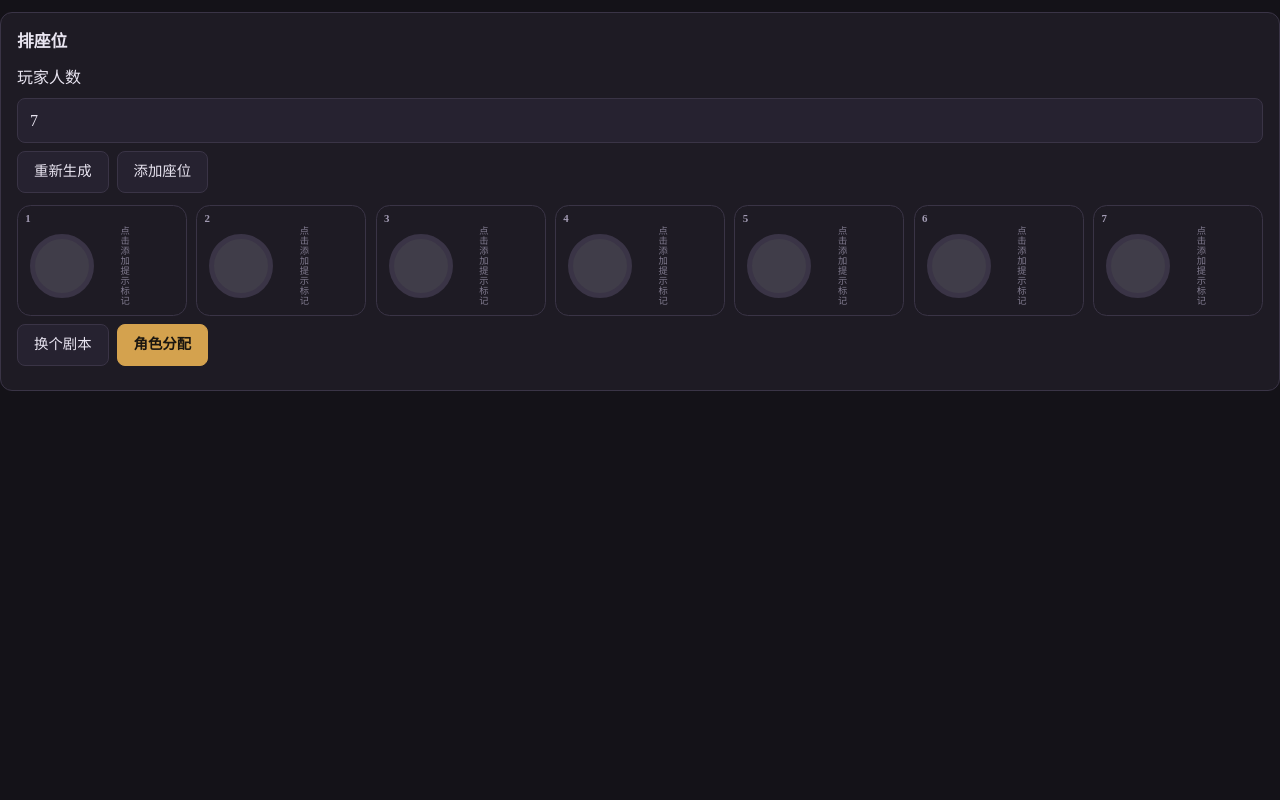
Test: SeatSetup（F-02 玩家卡 + 菜单） › 菜单内 M2/M3 项目置灰占位（disabled + 标注阶段）
Click the button with aria-label "座位编号 1": (102, 260) [17,205,187,316]
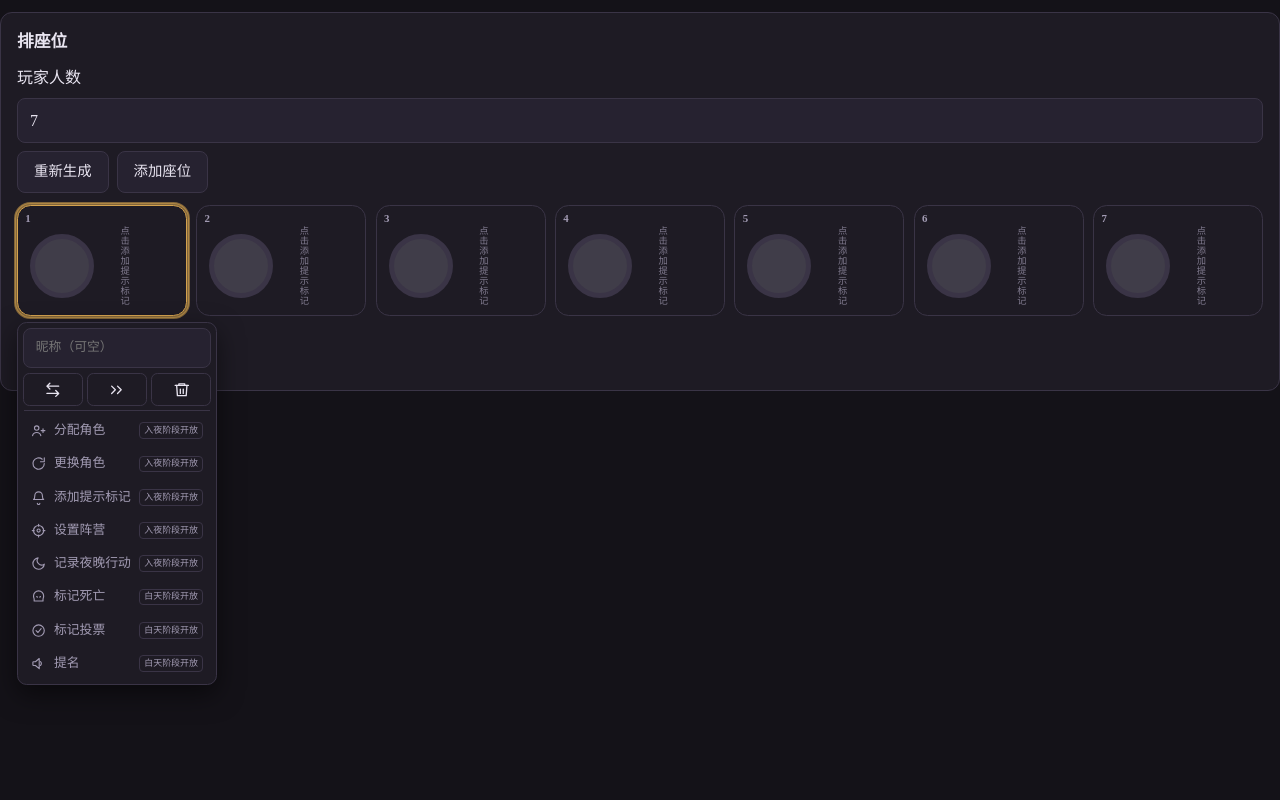
Expected: the button "分配角色 入夜阶段开放" is disabled, [23,415,211,446]
Expected: the button "提名 白天阶段开放" is disabled, [23,648,211,679]
Expected: the number of buttons "分配角色 入夜阶段开放" is 5, [23,415,211,446]; [23,448,211,480]; [23,482,211,513]; [23,515,211,546]; [23,548,211,580]
